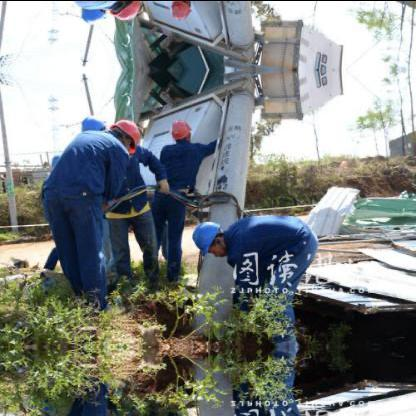Helmet: (192, 219, 226, 260), (107, 117, 141, 151), (74, 112, 108, 134), (74, 2, 108, 24), (106, 0, 142, 20), (168, 118, 190, 142), (167, 0, 191, 19)
